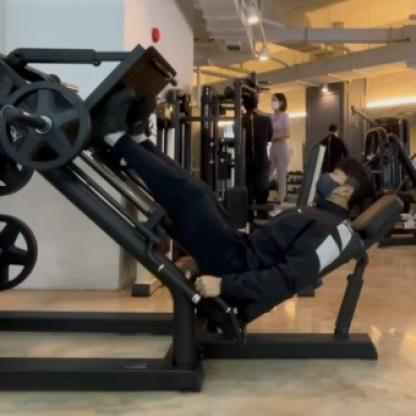leg press: (0, 29, 410, 416)
